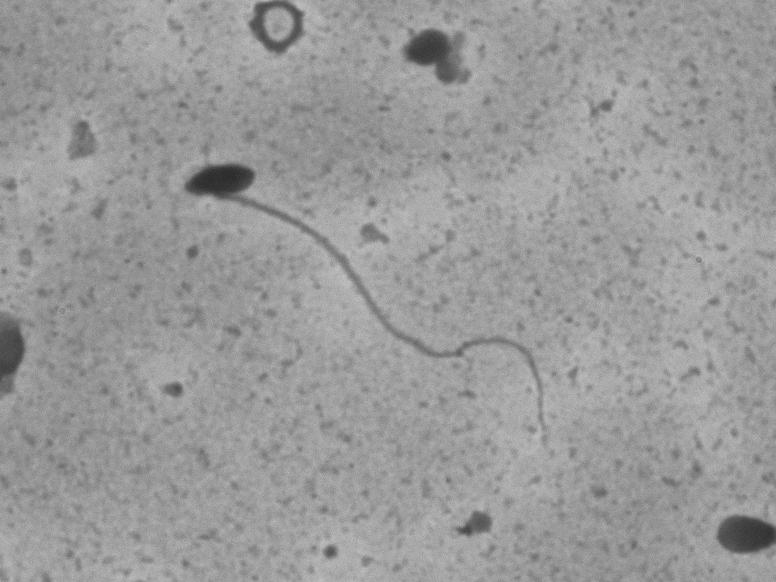Abnormal: (128, 152, 618, 421)
